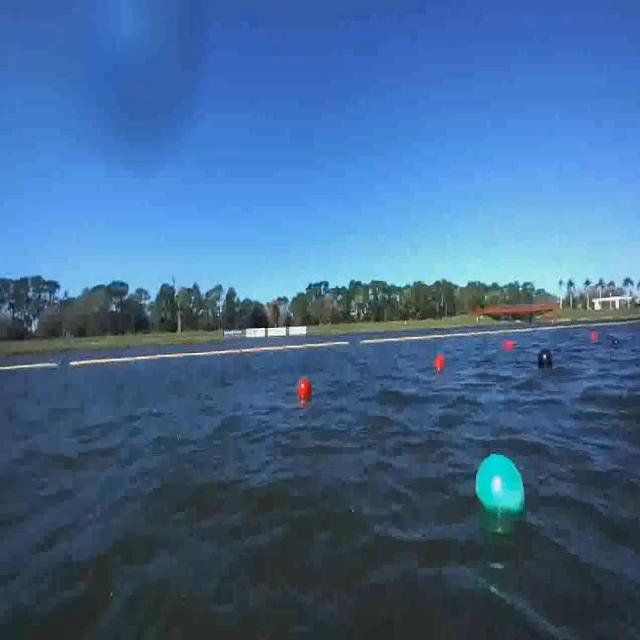black-buoy: (536, 347, 552, 369)
green-buoy: (475, 453, 526, 517)
red-buoy: (300, 379, 312, 399), (435, 354, 445, 372), (504, 341, 513, 352), (592, 332, 598, 343)
